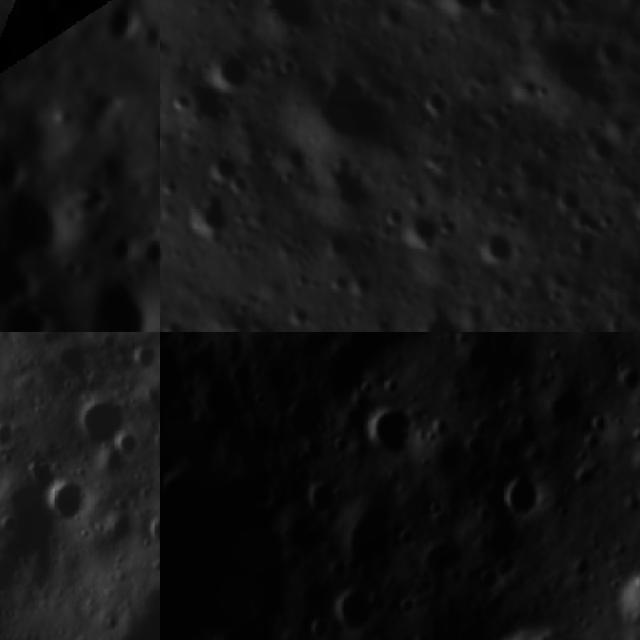crater: (496, 17, 632, 135), (274, 54, 412, 168), (0, 170, 91, 276), (62, 260, 160, 332), (0, 236, 52, 330), (310, 160, 381, 222), (330, 511, 395, 577), (94, 0, 158, 62), (360, 399, 421, 458), (388, 206, 453, 260), (182, 191, 242, 249), (199, 50, 259, 101), (532, 383, 590, 435), (470, 222, 528, 272), (332, 584, 383, 640), (254, 0, 322, 41), (504, 151, 560, 200), (416, 536, 466, 590), (280, 392, 332, 443), (72, 398, 125, 448), (0, 289, 60, 332), (407, 298, 473, 332), (502, 472, 543, 526), (48, 474, 88, 527), (419, 77, 459, 125), (299, 473, 340, 516), (22, 0, 75, 33), (578, 133, 620, 172), (133, 228, 160, 279), (458, 431, 495, 467), (428, 0, 486, 21), (129, 340, 160, 378), (493, 434, 528, 466), (608, 364, 640, 398), (141, 110, 160, 162), (106, 429, 140, 458), (628, 177, 640, 237), (160, 230, 177, 272), (306, 616, 335, 640), (160, 190, 172, 235), (148, 515, 160, 557)
